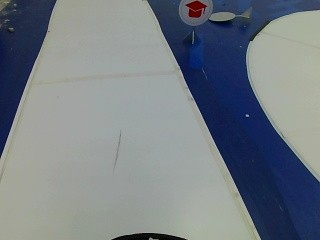school: (176, 0, 210, 26)
